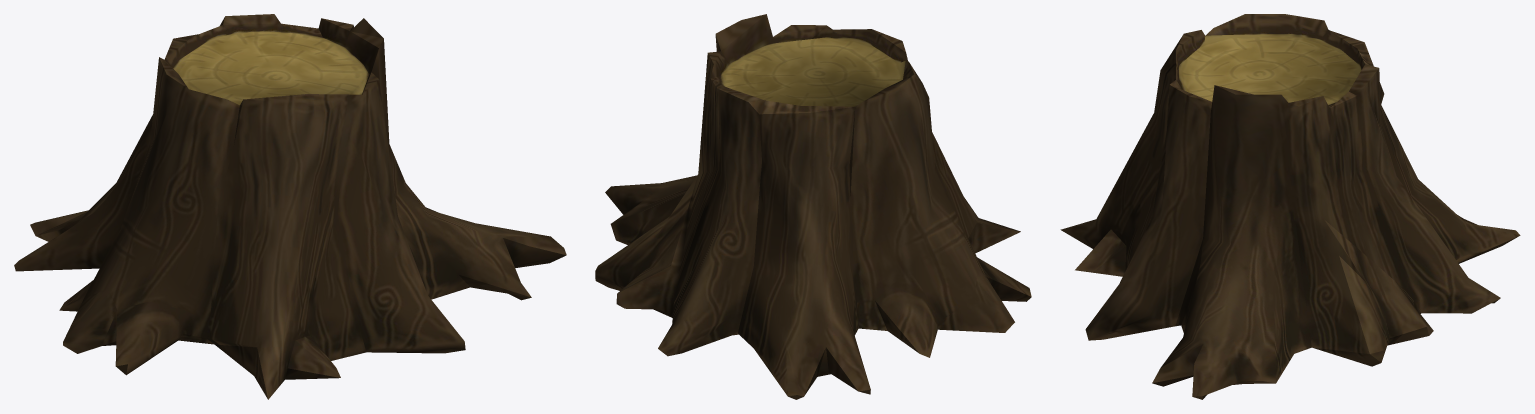
The model's file is VEG0210042.fbx.
3 views of the same model, side by side, from view 1: azimuth 30°, elevation 25°; view 2: azimuth 150°, elevation 25°; view 3: azimuth 270°, elevation 25° (orthographic). The views are drawn at different scales.
Visible parts, largest first — view 1: smVEG0210042; view 2: smVEG0210042; view 3: smVEG0210042.
Part boxes in pixels (bbox=[...]): smVEG0210042: bbox=[14, 14, 566, 399]; smVEG0210042: bbox=[595, 14, 1031, 399]; smVEG0210042: bbox=[1060, 14, 1520, 399].
Size of the model in its own units: 175 by 93.96 by 156.
1 material, 1 textured.
